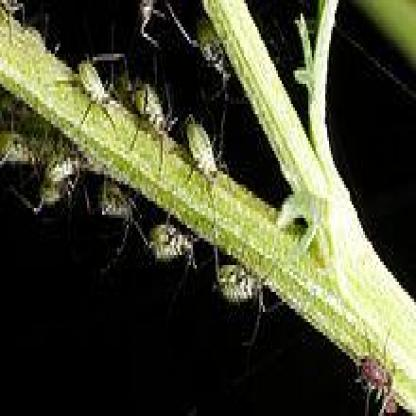aphid: (209, 255, 279, 322), (31, 146, 87, 221), (144, 209, 202, 276), (353, 329, 401, 409), (127, 70, 174, 146), (67, 48, 114, 122), (183, 110, 222, 193), (98, 179, 145, 241), (2, 120, 48, 179)
